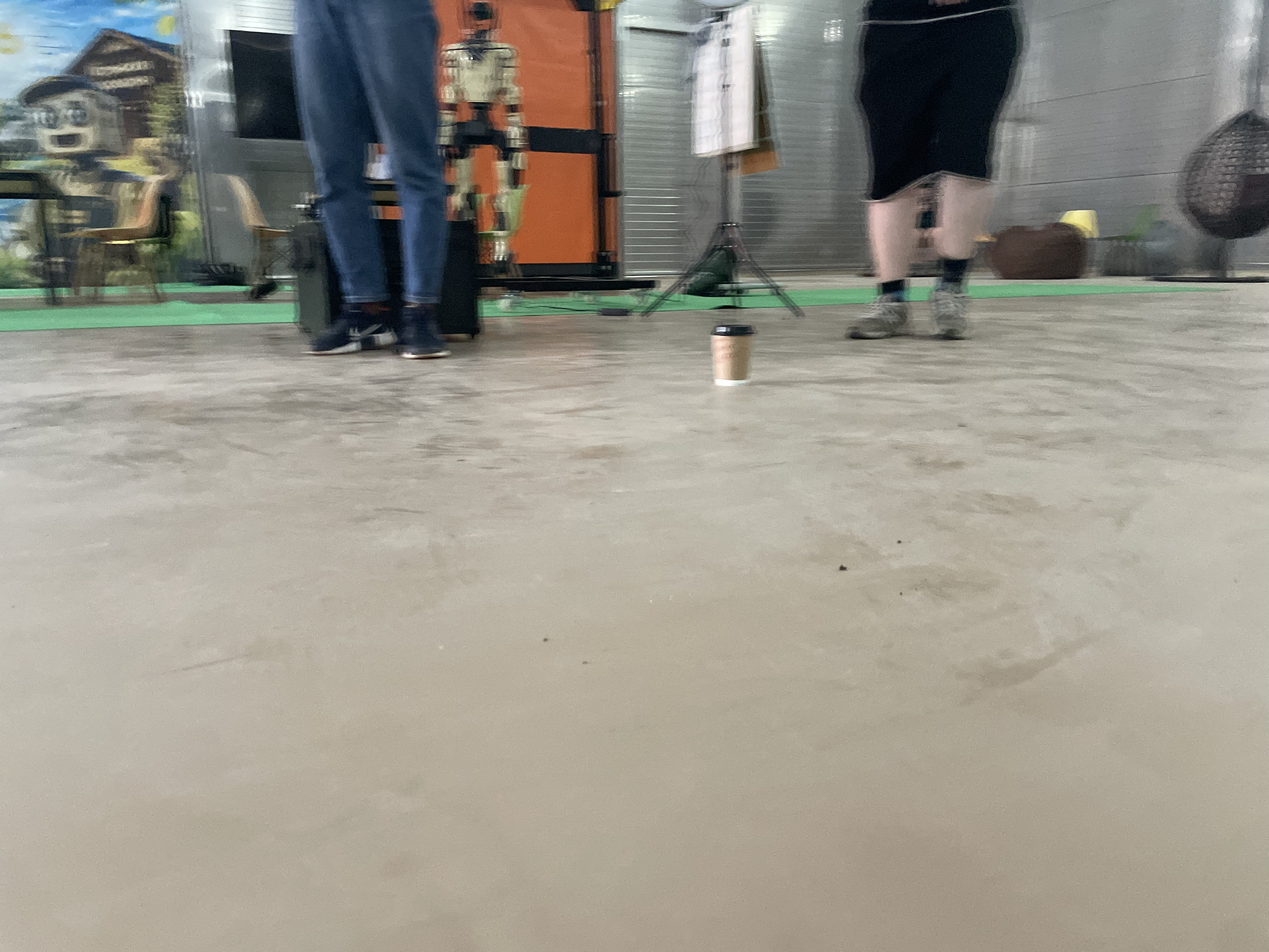cup: (710, 324, 755, 387)
